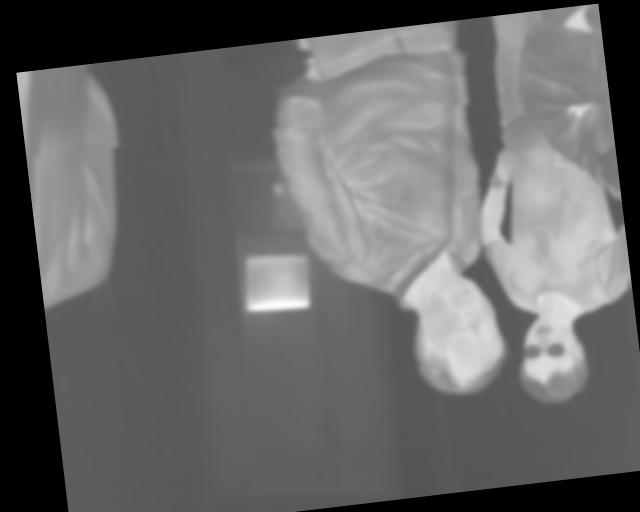face: (405, 270, 512, 401), (513, 310, 592, 409)
